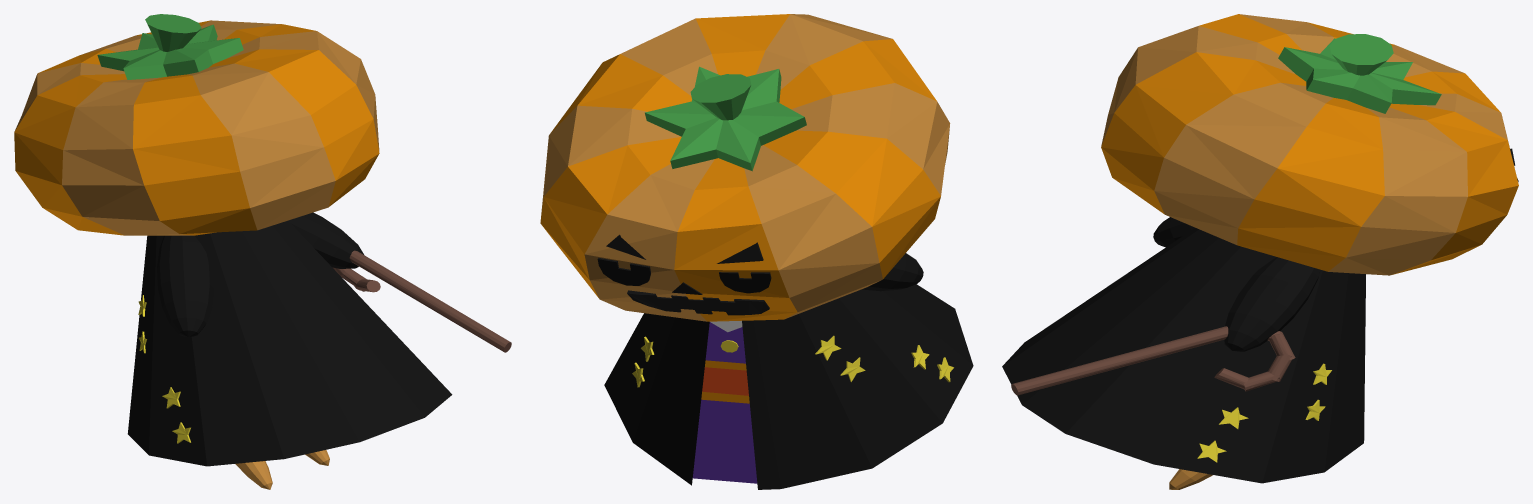
The model's file is Bruja.gltf.
The picture shows the model from 3 angles, left to right: view 1: azimuth 30°, elevation 25°; view 2: azimuth 150°, elevation 25°; view 3: azimuth 270°, elevation 25°; orthographic projection. The views are drawn at different scales.
Visible parts, largest first — view 1: node_MeshObject1381653504-PolyPaper2; view 2: node_MeshObject1381653504-PolyPaper2; view 3: node_MeshObject1381653504-PolyPaper2.
Boxes of the visible parts, x1,y1,x2,y2 form: node_MeshObject1381653504-PolyPaper2: (14,14,511,489); node_MeshObject1381653504-PolyPaper2: (540,14,973,489); node_MeshObject1381653504-PolyPaper2: (1002,14,1518,489).
Size of the model in its own units: 6.52 by 7.5 by 8.48.
